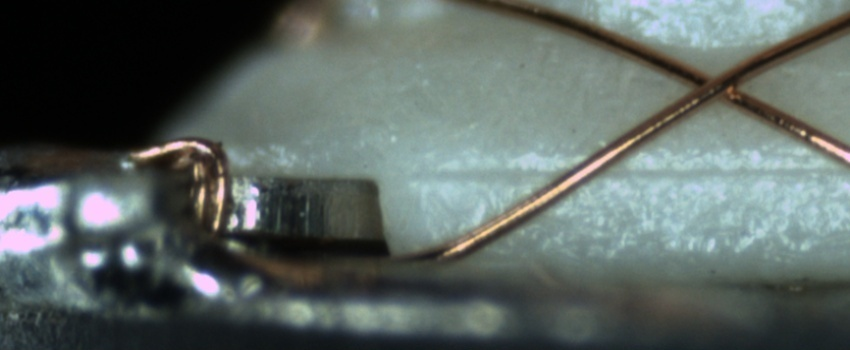CL: (667, 52, 765, 113)
DL: (414, 141, 849, 204)
TE: (119, 128, 238, 242)
